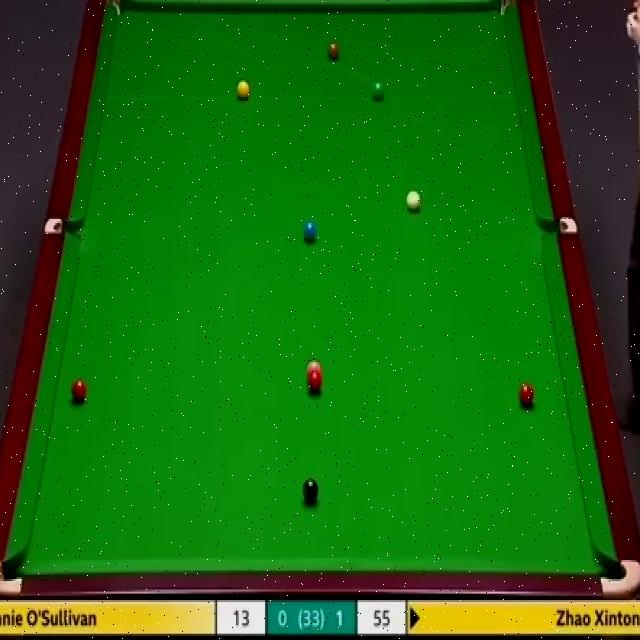black-ball: (302, 478, 319, 505)
blue-ball: (302, 220, 318, 241)
brown-ball: (327, 41, 340, 62)
green-ball: (370, 79, 384, 101)
pink-ball: (306, 360, 322, 375)
red-ball: (71, 376, 88, 404), (518, 381, 534, 407), (306, 372, 323, 394)
white-ball: (403, 189, 422, 215)
yellow-ball: (238, 81, 252, 102)
